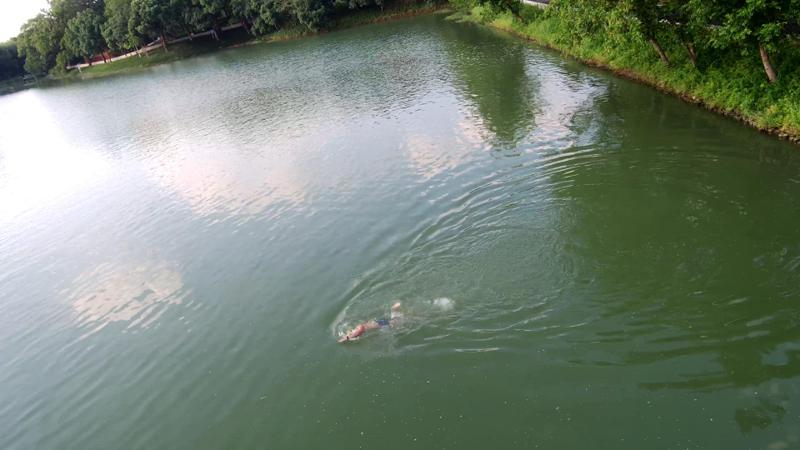swimmers: (337, 302, 401, 343)
